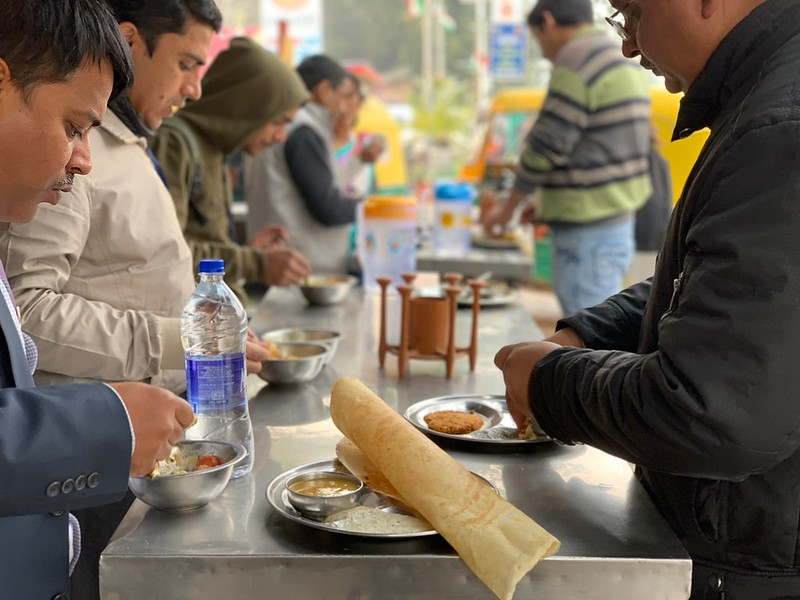dosa: (322, 369, 566, 600)
